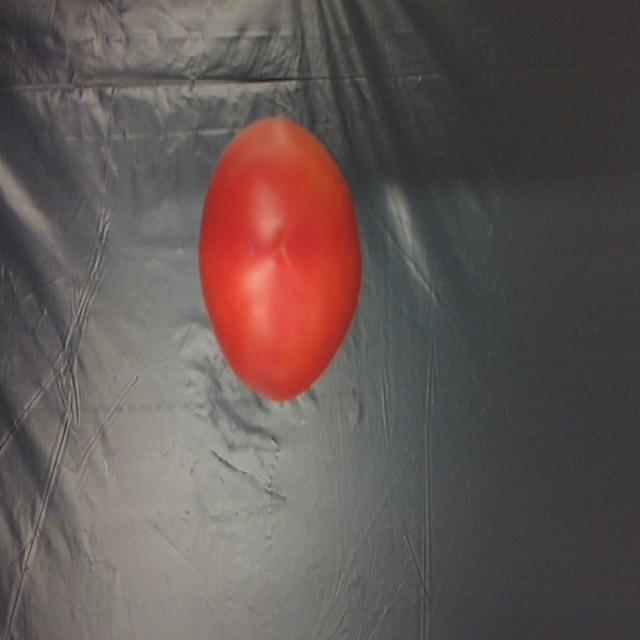kirmizi: (196, 109, 371, 408)
